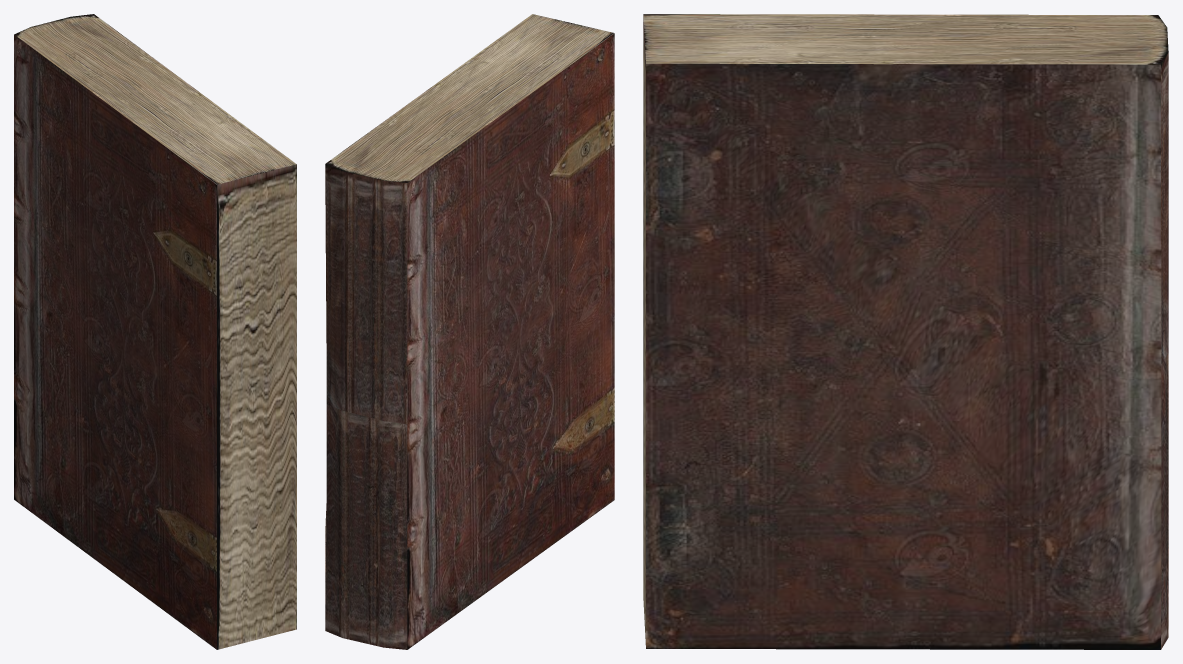
The model's file is bookThree.glb.
3 renders of one model, left to right at view 1: azimuth 30°, elevation 25°; view 2: azimuth 150°, elevation 25°; view 3: azimuth 270°, elevation 25°, orthographic. The views are drawn at different scales.
Visible parts, largest first — view 1: Cube; view 2: Cube; view 3: Cube.
Part boxes in pixels (<box>): Cube: <box>14,14,296,649</box>; Cube: <box>325,14,614,649</box>; Cube: <box>643,14,1168,649</box>.
Size of the model in its own units: 3.48 by 18.71 by 15.22.
Materials: 1 (1 with a texture image).
